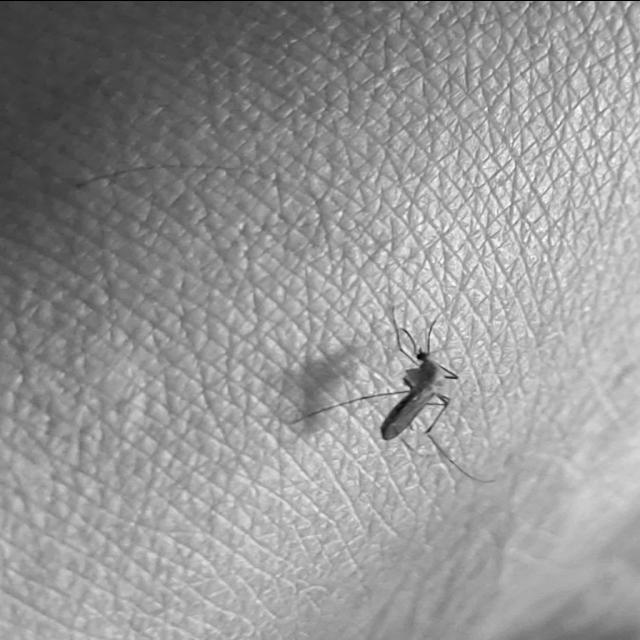Mosquito: (297, 292, 479, 480)
